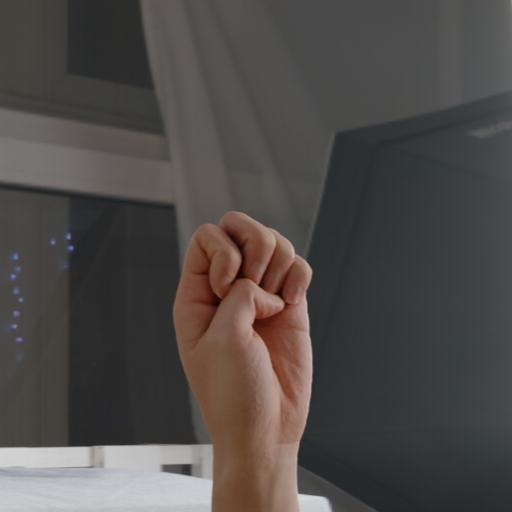E: (129, 187, 329, 452)
